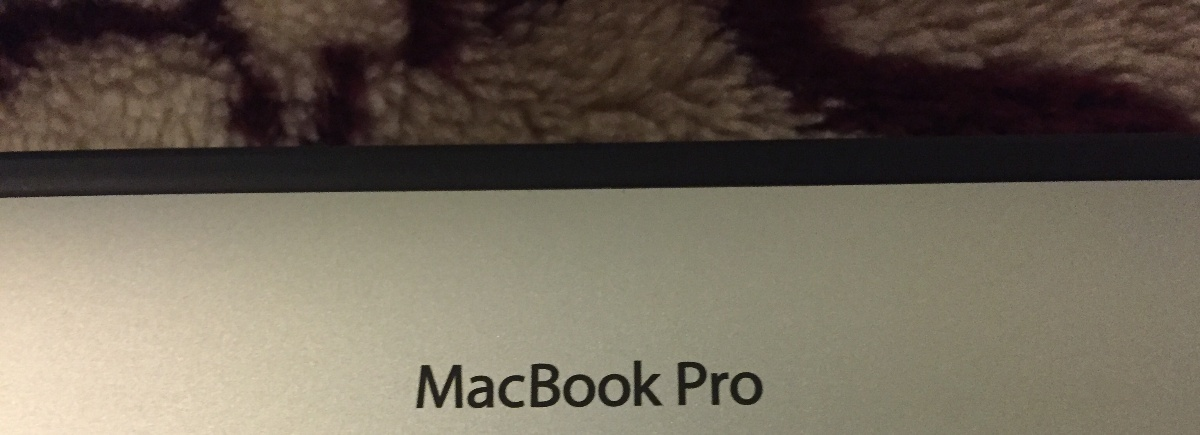text: (433, 359, 448, 409), (449, 359, 464, 409), (465, 359, 480, 409), (481, 359, 496, 409), (497, 359, 512, 409), (513, 359, 528, 409), (529, 359, 544, 409), (545, 359, 560, 409), (561, 359, 576, 409), (577, 359, 592, 409), (593, 359, 608, 409), (609, 359, 624, 409), (625, 359, 640, 409), (641, 359, 656, 409), (689, 361, 704, 407), (705, 361, 720, 407), (721, 361, 736, 407), (737, 361, 752, 407), (421, 359, 432, 409), (677, 361, 688, 407), (753, 361, 764, 407), (657, 359, 665, 409)
